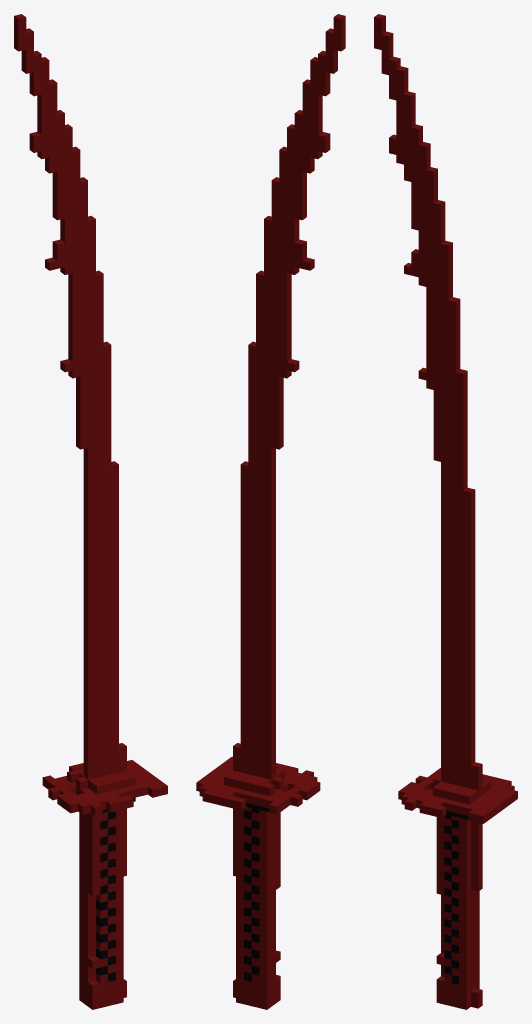
The model's file is modelbankai.obj.
3 renders of one model, left to right at view 1: azimuth 30°, elevation 25°; view 2: azimuth 150°, elevation 25°; view 3: azimuth 330°, elevation 25°, orthographic. The views are drawn at different scales.
Visible parts, largest first — view 1: voxel; view 2: voxel; view 3: voxel.
Part boxes in pixels (x1,y1,x2,y2): voxel: (14,14,167,1009); voxel: (196,14,345,1009); voxel: (374,14,517,1009).
Bounding box in the file's own units: 1.06 × 7.75 × 0.6875.
